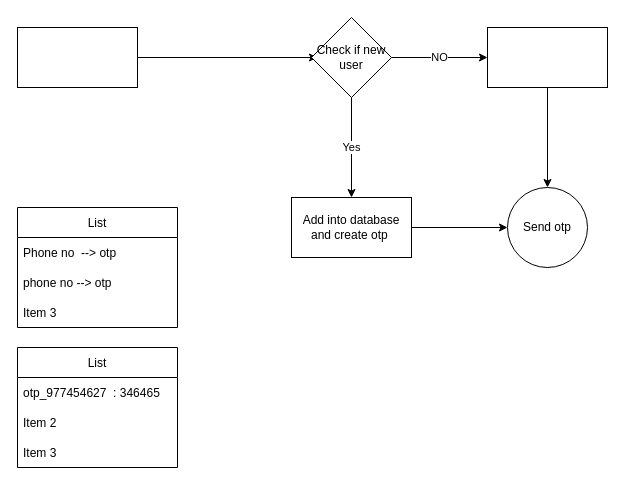
The diagram is 625 pixels wide and 485 high, and some of its shapes have lost their labels. The shapes that lost their labels are listed below. From the top down, each one's centre as x and y in pixels, then its label:
pixel 77 57: Phone no
pixel 547 57: Create otp
